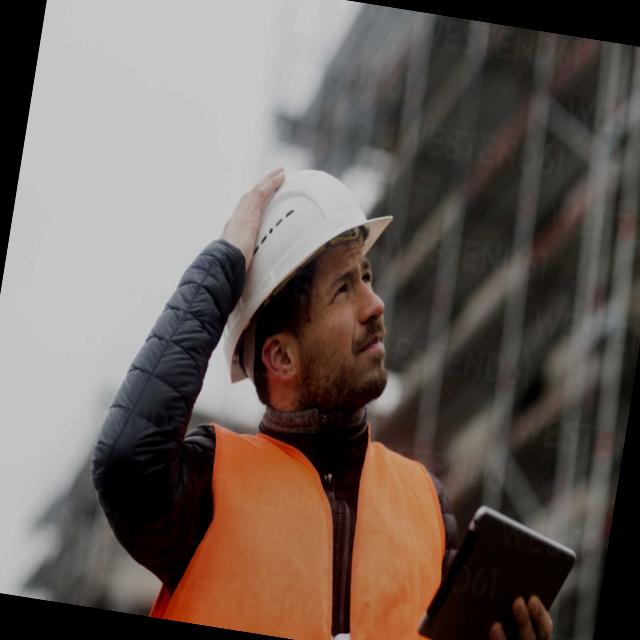helmet: (218, 148, 404, 335)
no-goggles: (282, 242, 391, 324)
vest: (165, 392, 464, 640)
